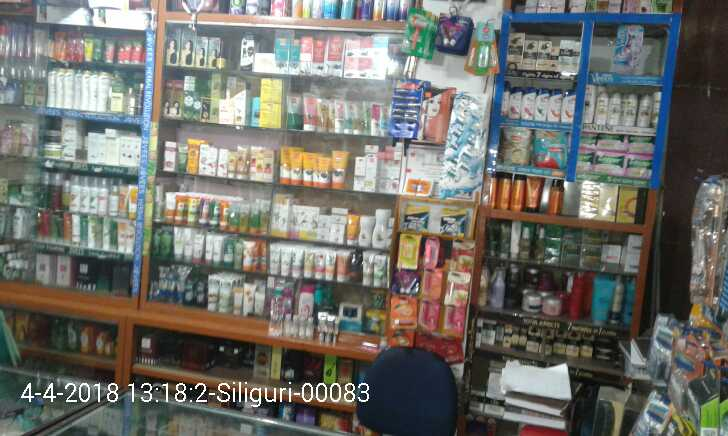gillete: (388, 87, 422, 134), (440, 208, 465, 238), (406, 205, 432, 230)
venus: (444, 107, 483, 184), (609, 24, 646, 74)
